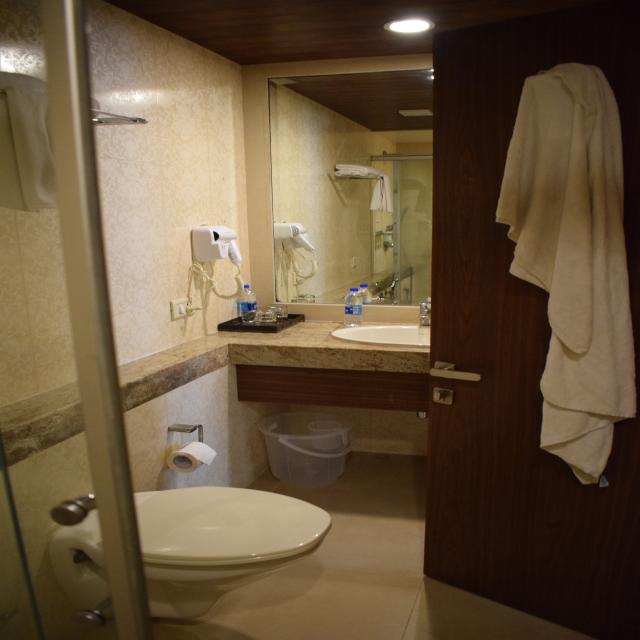mess: (437, 51, 640, 640), (214, 269, 475, 351)
